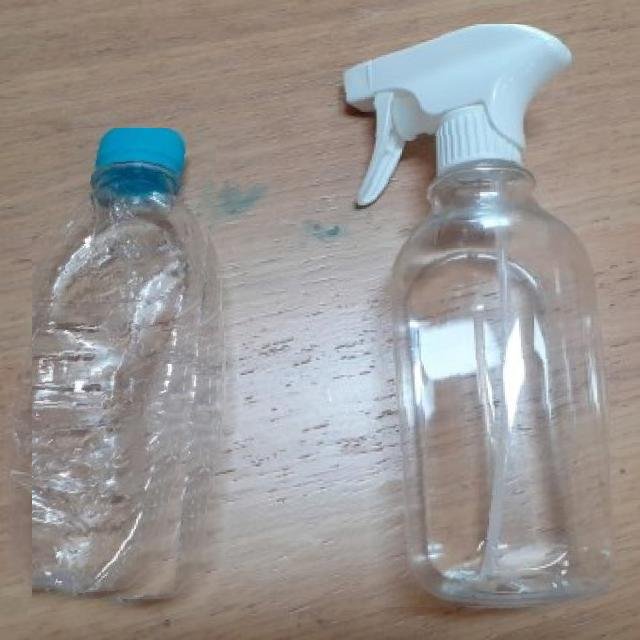plastic bottle: (339, 24, 610, 608), (32, 128, 220, 606)
